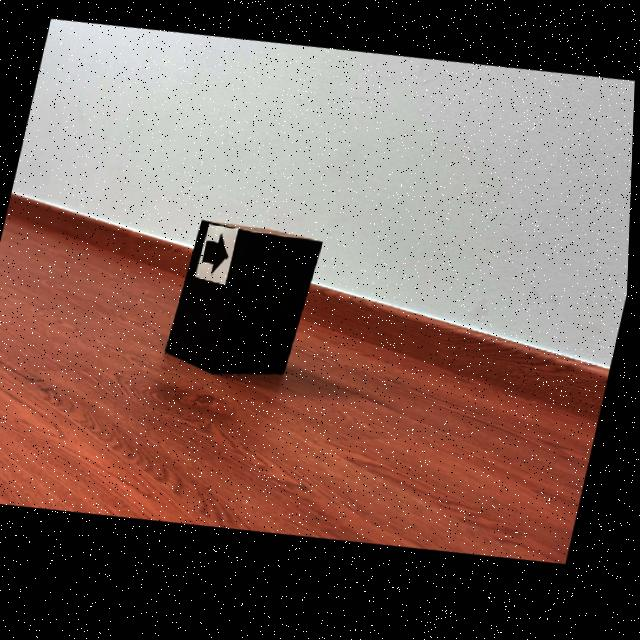RIGHT: (205, 239, 229, 279)
